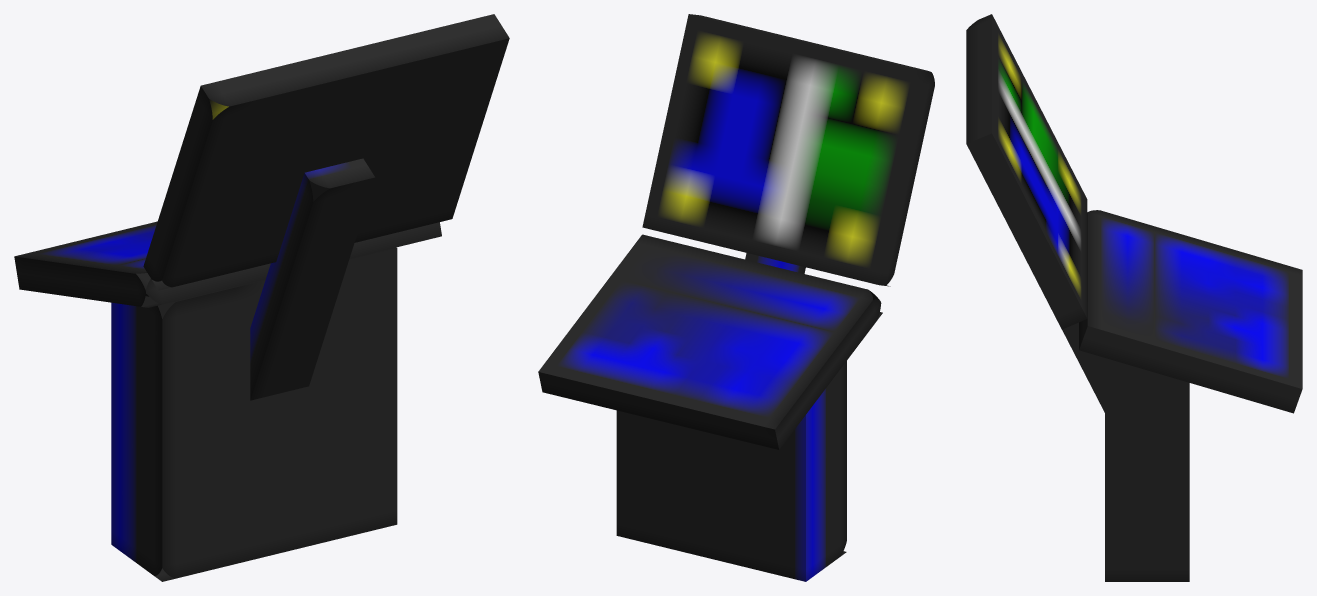
File: launcher_control_panel_t3.obj
3 views of the same model, side by side, from view 1: azimuth 30°, elevation 25°; view 2: azimuth 150°, elevation 25°; view 3: azimuth 270°, elevation 25° (orthographic). The views are drawn at different scales.
Visible parts, largest first — view 1: Stand, Screen, ScreenSupport, Keyboard; view 2: Screen, Keyboard, Stand; view 3: Keyboard, Screen, Stand, ScreenSupport.
Boxes of the visible parts, box(x1,y1,x2,y2) form: Stand: box(111, 247, 397, 581); Screen: box(143, 14, 509, 290); ScreenSupport: box(250, 158, 375, 400); Keyboard: box(14, 221, 441, 307); Screen: box(642, 14, 934, 286); Keyboard: box(538, 234, 882, 449); Stand: box(616, 361, 846, 581); Keyboard: box(1079, 210, 1302, 413); Screen: box(966, 14, 1087, 329); Stand: box(1105, 358, 1189, 581); ScreenSupport: box(1062, 322, 1104, 412).
Size of the model in its own units: 0.625 by 1.12 by 0.7441.
